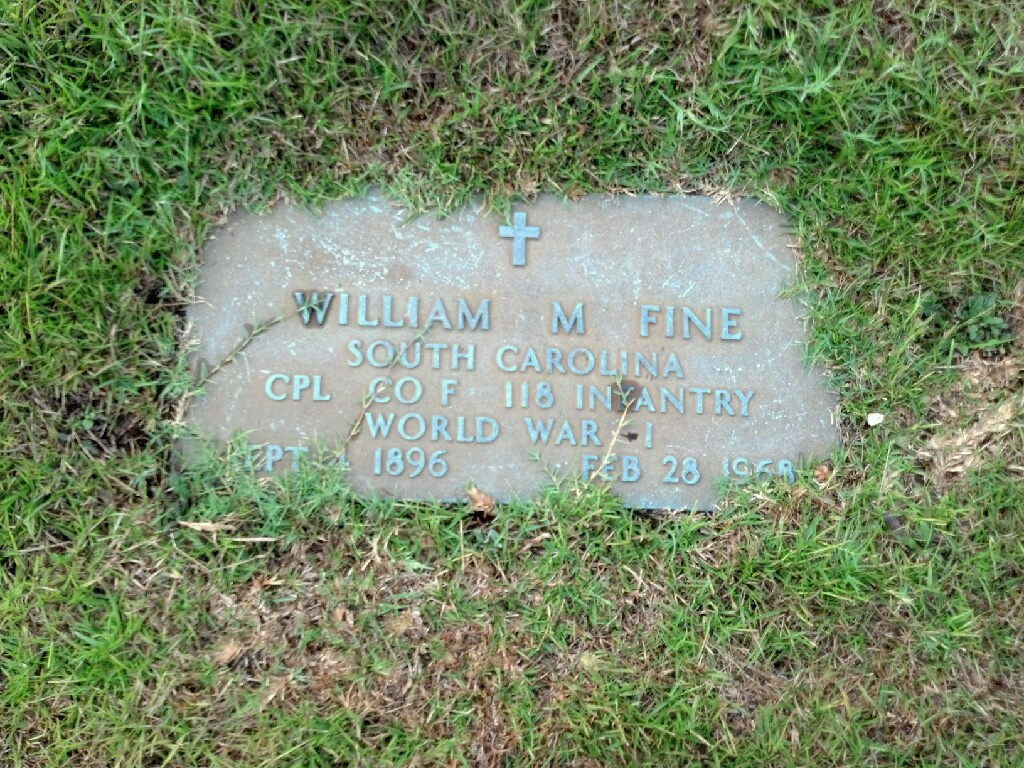flat: (144, 176, 881, 540)
